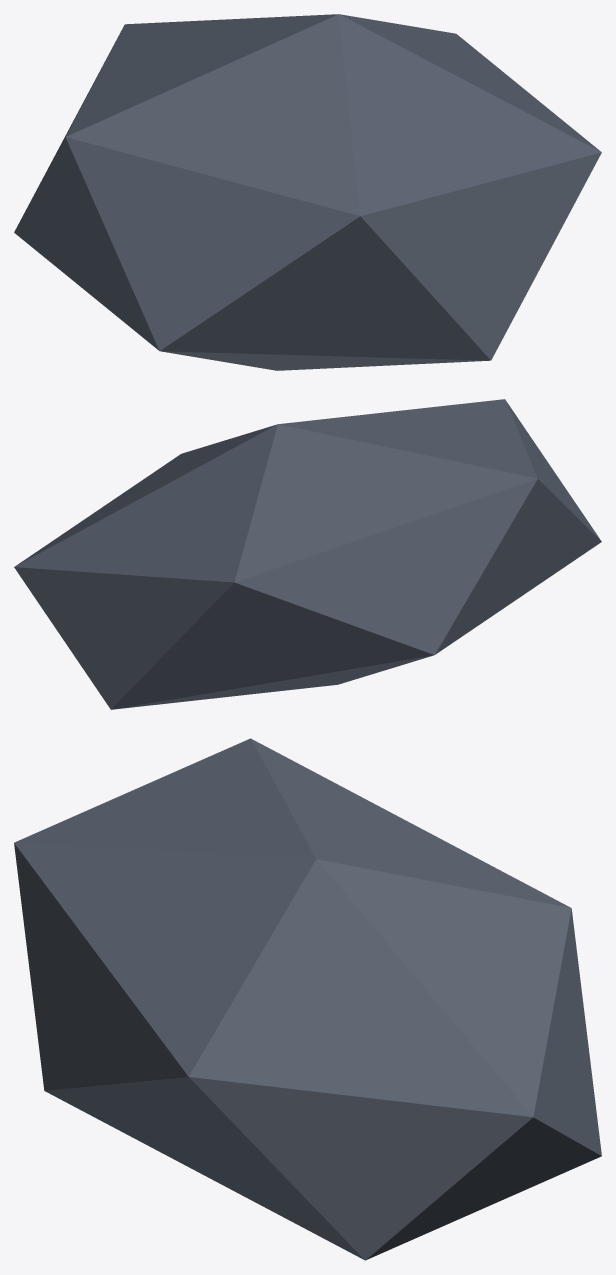
Rendered from EXT_SouthCliff_04_Shard_0.glb.
3 views of the same model, one above another, from view 1: azimuth 30°, elevation 25°; view 2: azimuth 150°, elevation 25°; view 3: azimuth 270°, elevation 25° (orthographic). The views are drawn at different scales.
Visible parts, largest first — view 1: EXT_SouthCliff_04_Shard_0; view 2: EXT_SouthCliff_04_Shard_0; view 3: EXT_SouthCliff_04_Shard_0.
Boxes of the visible parts, x1,y1,x2,y2 form: EXT_SouthCliff_04_Shard_0: (14,14,601,370); EXT_SouthCliff_04_Shard_0: (14,399,601,709); EXT_SouthCliff_04_Shard_0: (14,738,601,1260).
Bounding box in the file's own units: 1.74 × 1.01 × 1.73.
